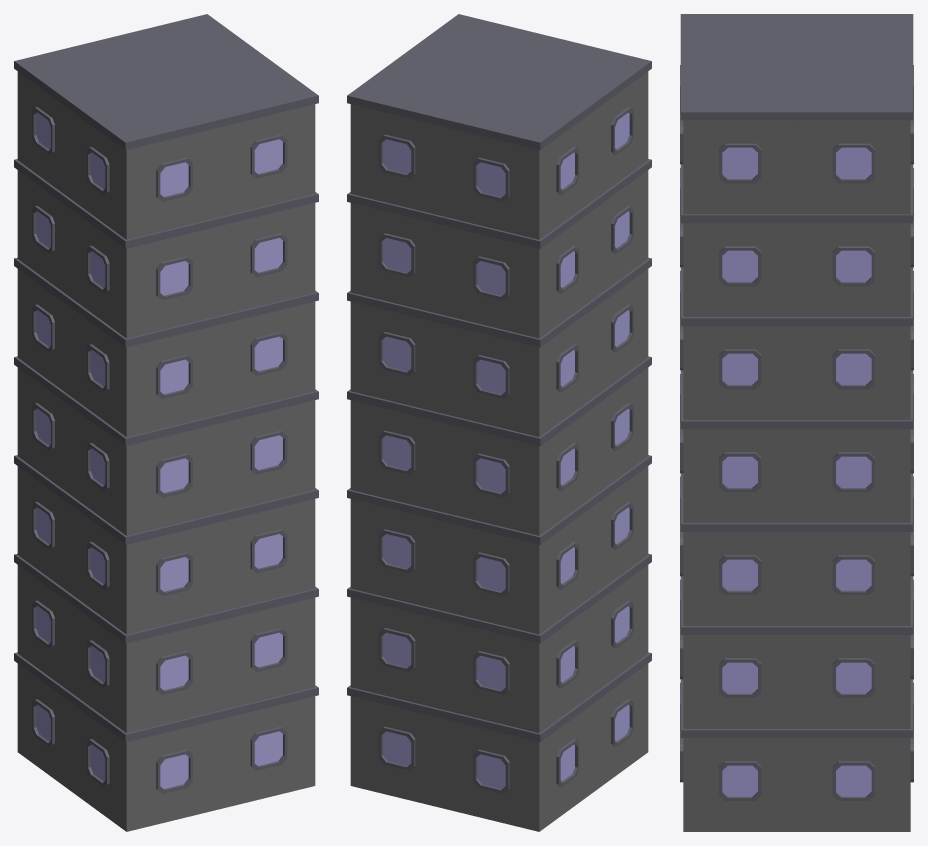
Rendered from obj_flat_2x2_cornered.FBX.
3 views of the same model, side by side, from view 1: azimuth 30°, elevation 25°; view 2: azimuth 150°, elevation 25°; view 3: azimuth 270°, elevation 25° (orthographic). The views are drawn at different scales.
Visible parts, largest first — view 1: obj_flat_2x2_cornered; view 2: obj_flat_2x2_cornered; view 3: obj_flat_2x2_cornered.
Boxes of the visible parts, x1=… form: obj_flat_2x2_cornered: x1=14, y1=14, x2=318, y2=831; obj_flat_2x2_cornered: x1=347, y1=14, x2=651, y2=831; obj_flat_2x2_cornered: x1=680, y1=14, x2=913, y2=831.
Size of the model in its own units: 4.11 by 14 by 4.11.
1 material, 1 textured.
